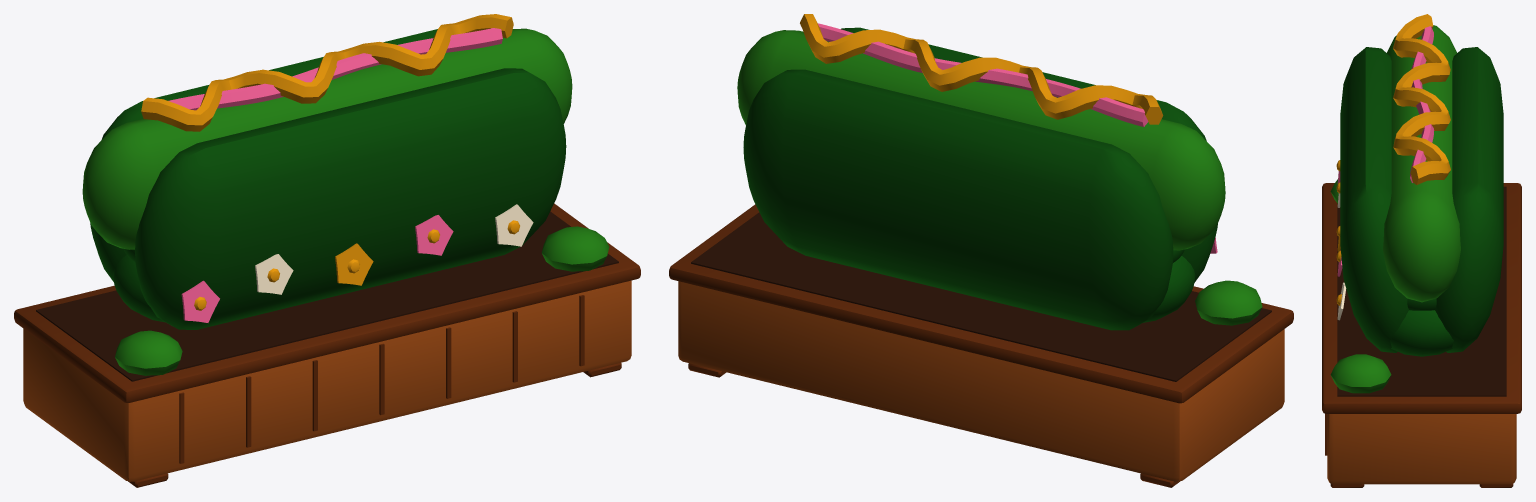
File: HotDogTopiary.fbx
3 renders of one model, left to right at view 1: azimuth 30°, elevation 25°; view 2: azimuth 150°, elevation 25°; view 3: azimuth 270°, elevation 25°, orthographic. The views are drawn at different scales.
Visible parts, largest first — view 1: HotDogTopiary; view 2: HotDogTopiary; view 3: HotDogTopiary.
Part boxes in pixels (x1,y1,x2,y2): HotDogTopiary: (14, 14, 640, 487); HotDogTopiary: (669, 14, 1293, 487); HotDogTopiary: (1322, 14, 1521, 487).
Size of the model in its own units: 7.75 by 4.78 by 2.95.
